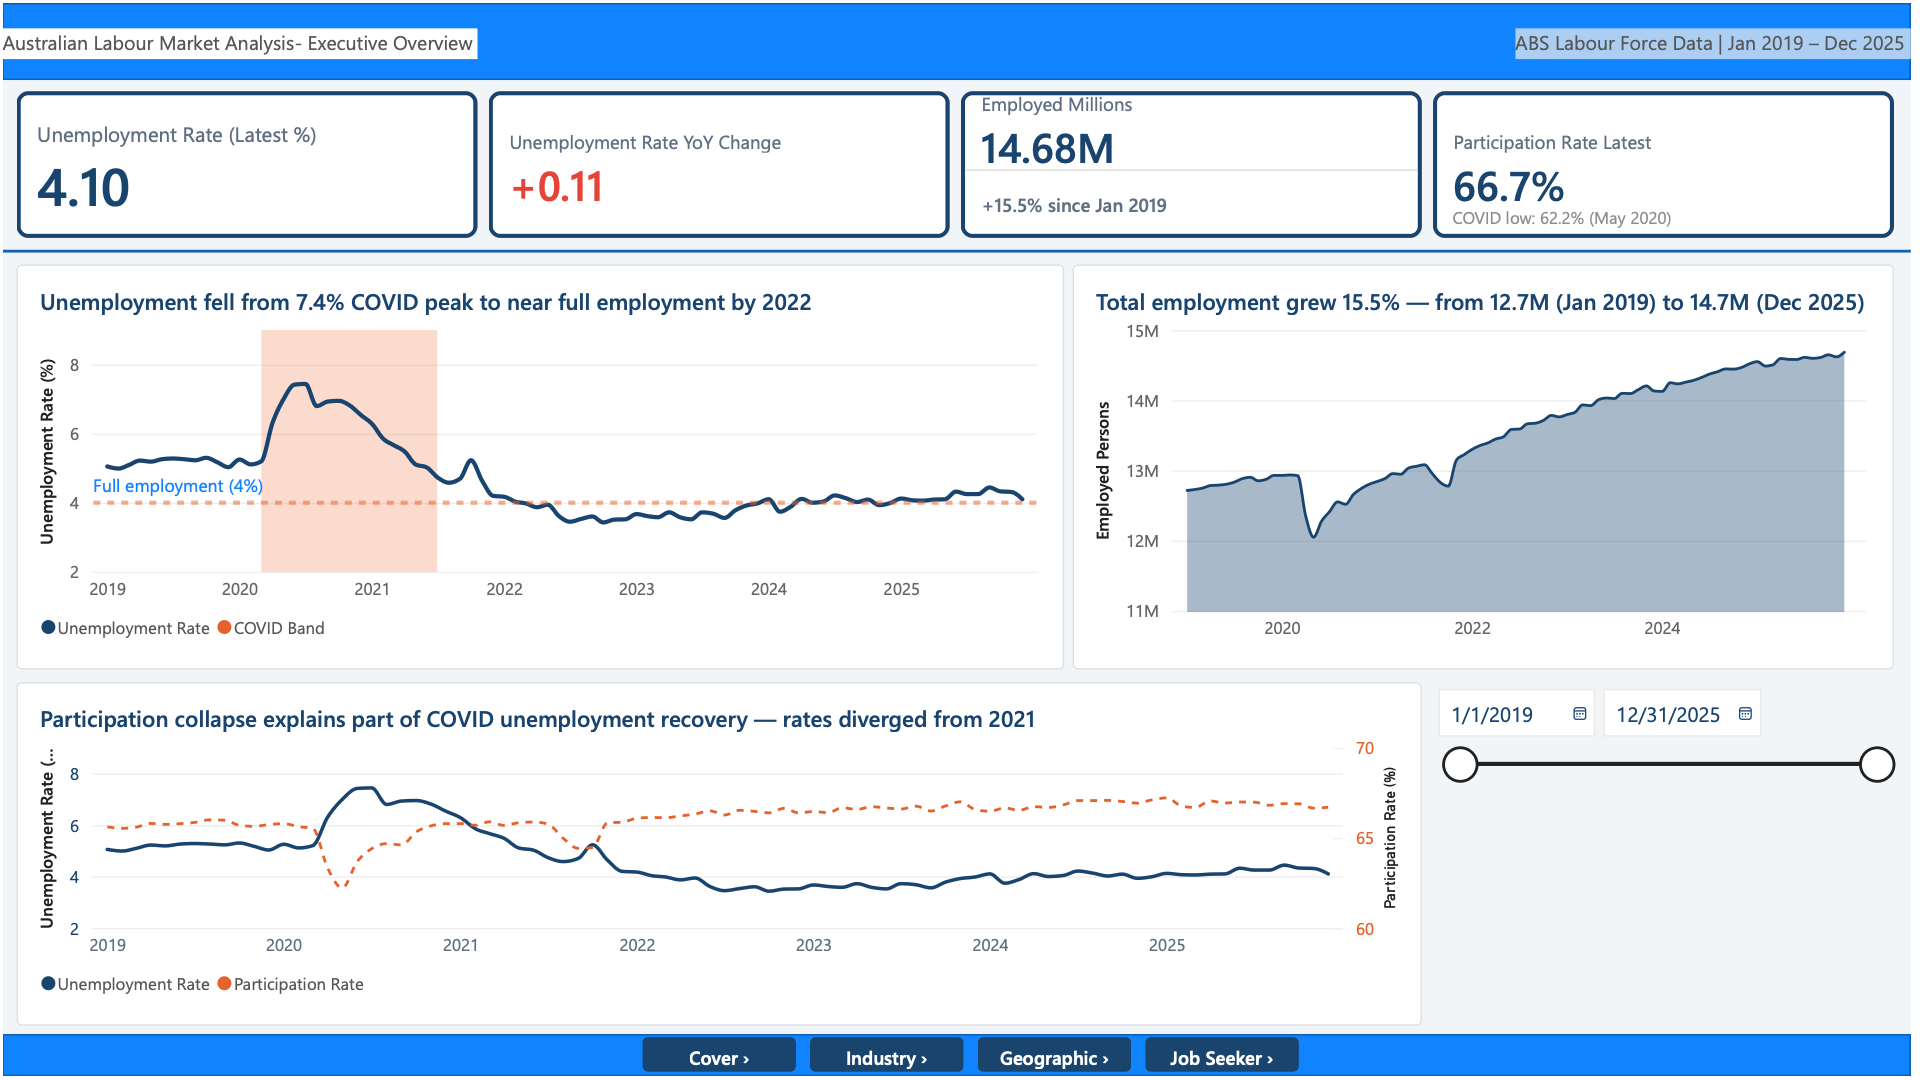

Layout of this report page (visuals, bound fields, positions):
{"tool":"powerbi","page":{"name":"Executive Overview","canvas":[1366,768],"ordinal":1},"visuals":[{"type":"shape","box":[0,0,1366,55],"z":0},{"type":"textbox","box":[0,18,340,22],"z":1000},{"type":"textbox","box":[1083.3,18.2,282.7,21.8],"z":2000},{"type":"cardVisual","fields":{"Data":["_Measures.Unemployment Rate Latest"]},"box":[10,63,330,105],"z":3000},{"type":"cardVisual","fields":{"Data":["_Measures.Unemployment Rate YoY Change"]},"box":[348,63,330,105],"z":4000},{"type":"cardVisual","fields":{"Data":["_Measures.Employed Millions"]},"box":[686,63,330,105],"z":5000},{"type":"cardVisual","fields":{"Data":["_Measures.Participation Rate Latest"]},"box":[1024,63,330,105],"z":6000},{"type":"textbox","box":[1038,143,162,25],"z":7000},{"type":"lineChart","title":"Unemployment fell from 7.4% COVID peak to near full employment by 2022","fields":{"Category":["DimDate.Date"],"Y":["_Measures.Unemployment Rate"],"Y2":["_Measures.COVID Band"]},"box":[10,187,750,290],"z":8000},{"type":"areaChart","title":"Total employment grew 15.5% — from 12.7M (Jan 2019) to 14.7M (Dec 2025)","fields":{"Category":["DimDate.Date"],"Y":["Sum(National Trends.Employed Total)"]},"box":[766,187,588,290],"z":9000},{"type":"lineChart","title":"Participation collapse explains part of COVID unemployment recovery — rates diverged from 2021","fields":{"Category":["DimDate.Date"],"Y":["_Measures.Unemployment Rate"],"Y2":["_Measures.Participation Rate"]},"box":[10,486,1006,246],"z":10000},{"type":"slicer","fields":{"Values":["DimDate.Date"]},"box":[1020,486,338,103],"z":11000},{"type":"shape","box":[0,738,1366,30],"z":12500},{"type":"actionButton","box":[698,740,110,25],"z":14500},{"type":"actionButton","box":[818,740,110,25],"z":15000},{"type":"actionButton","box":[578,740,110,25],"z":15500},{"type":"shape","box":[0,168,1366,19],"z":16000},{"type":"actionButton","box":[458,740,110,25],"z":16501}]}

Visuals, with their boxes in screenshot pixels (x1, y1, x2, y2), scaled from the page's 1366x768 canvas onto the 1920x1080 screenshot:
shape: BBox(0, 0, 1919, 77)
textbox: BBox(0, 25, 478, 56)
textbox: BBox(1523, 26, 1919, 56)
cardVisual - _Measures.Unemployment Rate Latest: BBox(14, 89, 478, 236)
cardVisual - _Measures.Unemployment Rate YoY Change: BBox(489, 89, 953, 236)
cardVisual - _Measures.Employed Millions: BBox(964, 89, 1428, 236)
cardVisual - _Measures.Participation Rate Latest: BBox(1439, 89, 1903, 236)
textbox: BBox(1459, 201, 1687, 236)
"Unemployment fell from 7.4% COVID peak to near full employment by 2022" lineChart: BBox(14, 263, 1068, 671)
"Total employment grew 15.5% — from 12.7M (Jan 2019) to 14.7M (Dec 2025)" areaChart: BBox(1077, 263, 1903, 671)
"Participation collapse explains part of COVID unemployment recovery — rates diverged from 2021" lineChart: BBox(14, 683, 1428, 1029)
slicer - DimDate.Date: BBox(1434, 683, 1909, 828)
shape: BBox(0, 1038, 1919, 1079)
actionButton: BBox(981, 1041, 1136, 1076)
actionButton: BBox(1150, 1041, 1304, 1076)
actionButton: BBox(812, 1041, 967, 1076)
shape: BBox(0, 236, 1919, 263)
actionButton: BBox(644, 1041, 798, 1076)
